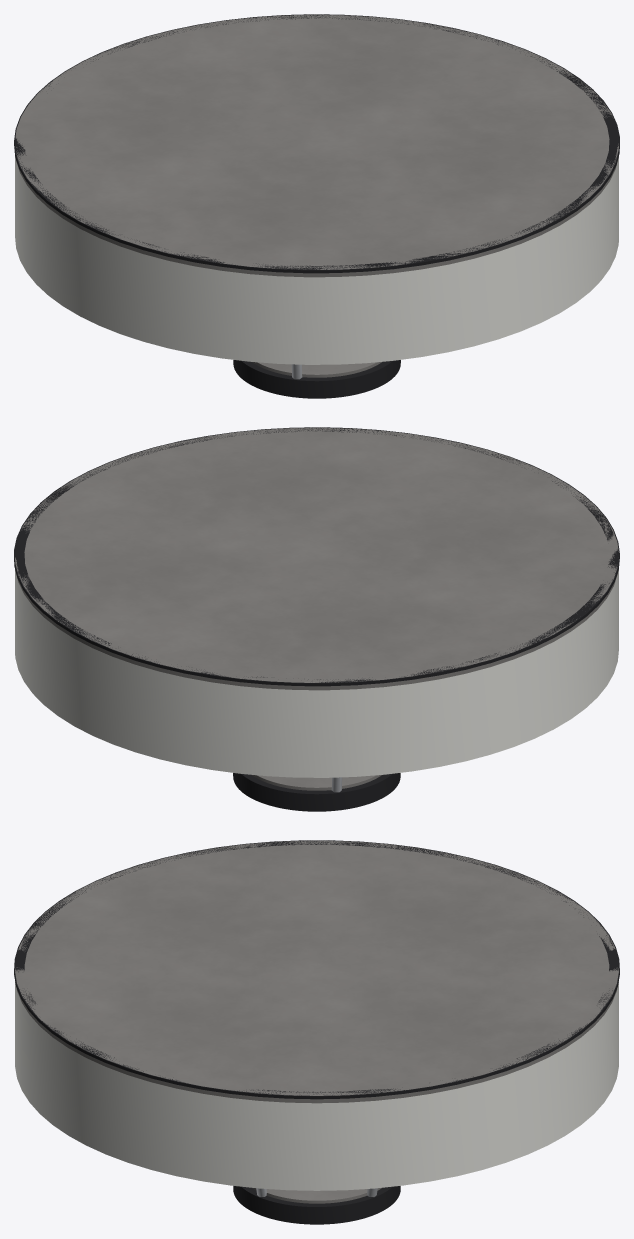
The model's file is stage12_multi_coupler_tri_l_s.glb.
3 renders of one model, top to bottom at view 1: azimuth 30°, elevation 25°; view 2: azimuth 150°, elevation 25°; view 3: azimuth 270°, elevation 25°, orthographic.
Parts seen in each view (by area): view 1: thrust_plate, skirt, top_flange, engine_mounts, mount_plates; view 2: thrust_plate, skirt, top_flange, engine_mounts, mount_plates; view 3: thrust_plate, skirt, top_flange, engine_mounts, mount_plates.
Boxes of the visible parts, <box> form: thrust_plate: <box>15,14,618,277</box>; skirt: <box>15,156,618,364</box>; top_flange: <box>14,14,619,273</box>; engine_mounts: <box>233,360,400,398</box>; mount_plates: <box>252,362,381,377</box>; thrust_plate: <box>15,427,618,690</box>; skirt: <box>15,569,618,777</box>; top_flange: <box>14,427,619,686</box>; engine_mounts: <box>233,773,400,811</box>; mount_plates: <box>252,775,381,790</box>; thrust_plate: <box>15,840,618,1103</box>; skirt: <box>15,981,618,1190</box>; top_flange: <box>14,840,619,1099</box>; engine_mounts: <box>233,1186,400,1224</box>; mount_plates: <box>252,1188,381,1203</box>.
Size of the model in its own units: 3.76 by 1 by 3.76.
Materials: 4 (2 with a texture image).
